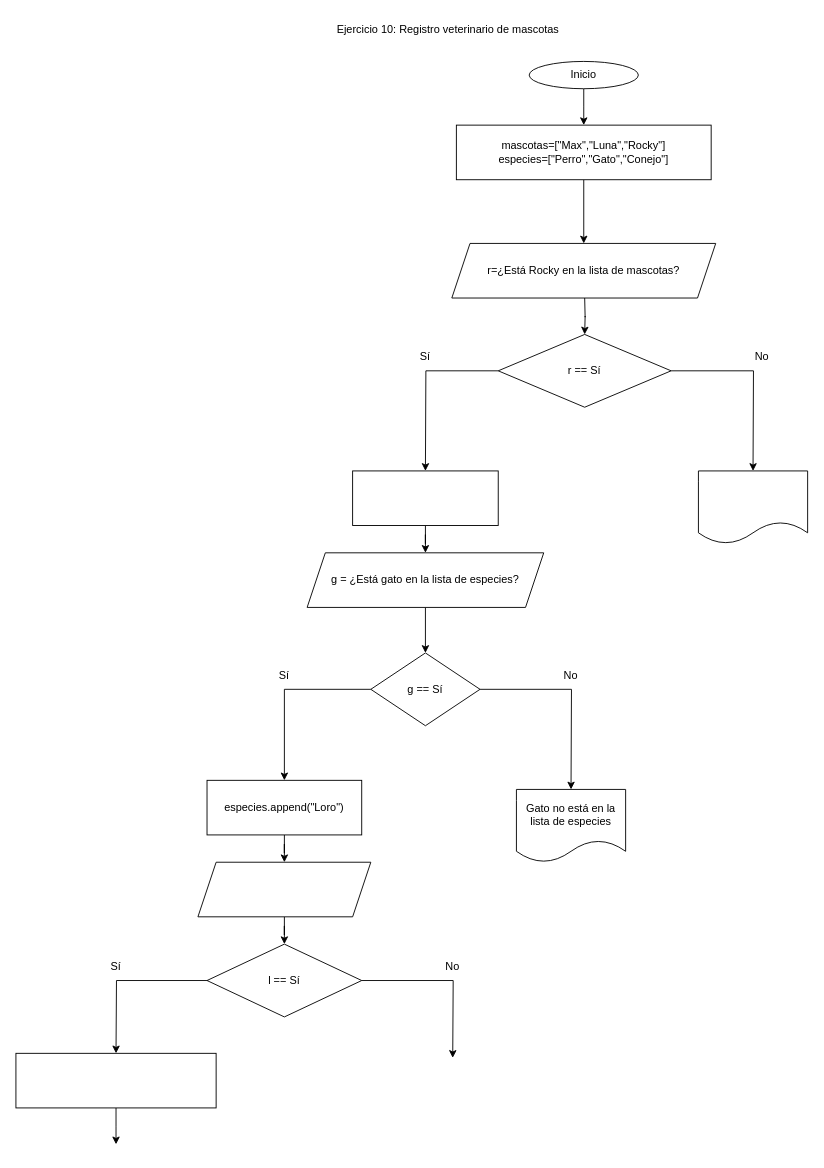
Image size: 824x1168. Some labels were removed from this diagram. Here are the shapes that lost their labels. From the top down, the centre of each, then its label:
point (425, 498): mascotas.append("Milo")
point (753, 507): Rocky no está en la lista
point (284, 889): l = ¿Está Luna en la lista de mascotas?
point (115, 1080): mascotas.remove("Luna")
